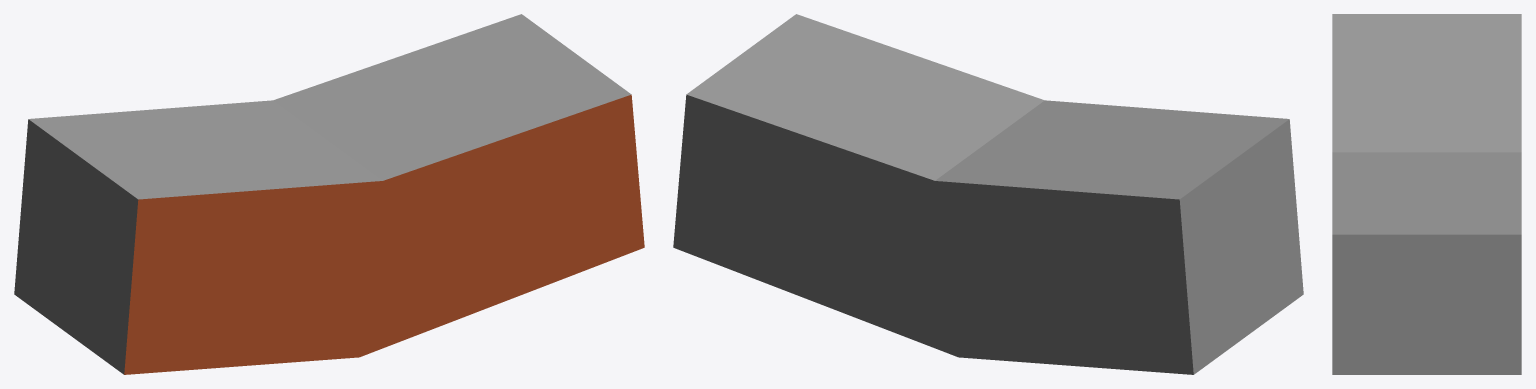
Rendered from construction_4846_assumed_A_Casa_h6m.obj.
3 renders of one model, left to right at view 1: azimuth 30°, elevation 25°; view 2: azimuth 150°, elevation 25°; view 3: azimuth 270°, elevation 25°, orthographic. The views are drawn at different scales.
Parts seen in each view (by area): view 1: construction_4846_assumed_A_Casa; view 2: construction_4846_assumed_A_Casa; view 3: construction_4846_assumed_A_Casa.
Boxes of the visible parts, box(x1,y1,x2,y2) form: construction_4846_assumed_A_Casa: box(14, 14, 644, 374); construction_4846_assumed_A_Casa: box(673, 14, 1303, 374); construction_4846_assumed_A_Casa: box(1332, 14, 1521, 374).
Size of the model in its own units: 16.39 by 6.38 by 6.
